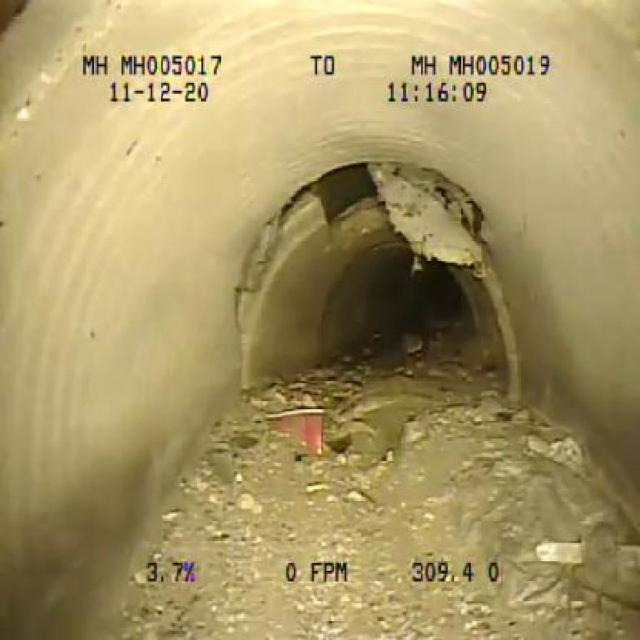Hole: (280, 132, 531, 283)
